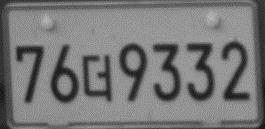2: (219, 40, 252, 100)
3: (150, 41, 182, 101), (185, 42, 215, 101)
6: (48, 43, 79, 102)
7: (14, 44, 45, 104)
9: (118, 43, 148, 102)
더: (81, 54, 114, 103)
